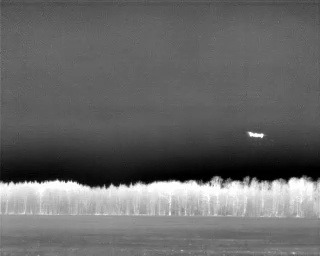DRONE: (242, 125, 269, 145)
